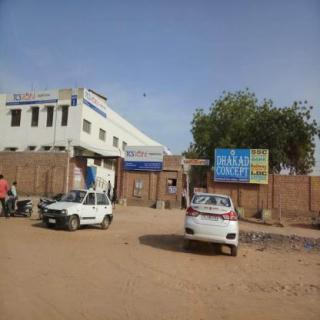Normal_vehicle: (185, 193, 238, 255)
